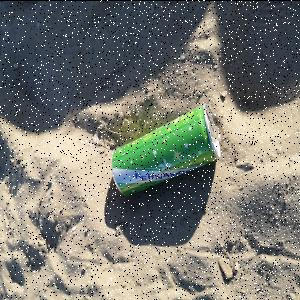Can: (111, 102, 223, 198)
